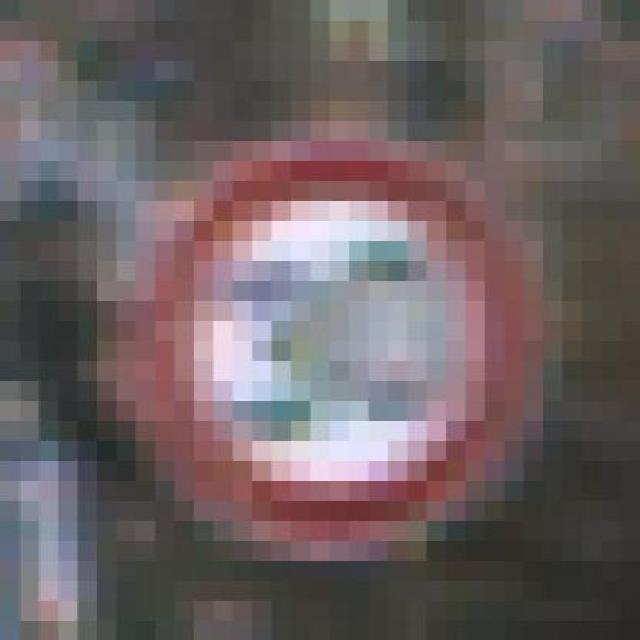Speed Limit 30 KMPh: (58, 80, 562, 580)
